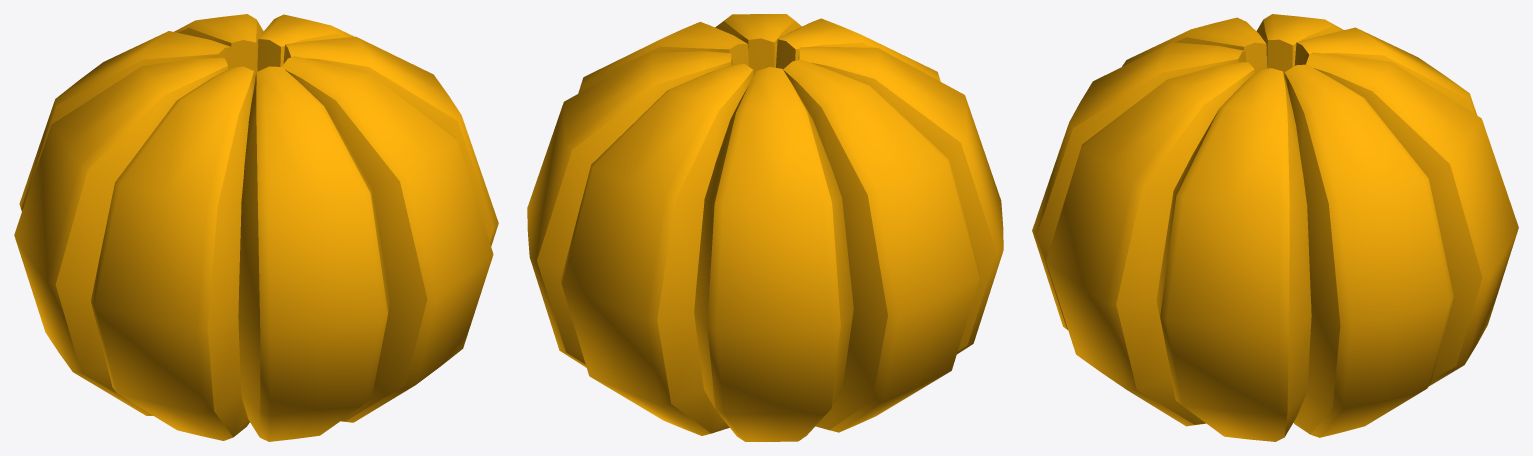
The model's file is obj_harvests_lemonium.fbx.
3 views of the same model, side by side, from view 1: azimuth 30°, elevation 25°; view 2: azimuth 150°, elevation 25°; view 3: azimuth 270°, elevation 25° (orthographic).
Parts seen in each view (by area): view 1: lod0_obj_harvests_lemonium.007; view 2: lod0_obj_harvests_lemonium.007; view 3: lod0_obj_harvests_lemonium.007.
Part boxes in pixels (<box>): lod0_obj_harvests_lemonium.007: <box>14,14,498,441</box>; lod0_obj_harvests_lemonium.007: <box>527,14,1003,441</box>; lod0_obj_harvests_lemonium.007: <box>1032,14,1518,441</box>.
Bounding box in the file's own units: 5.6 × 4.44 × 5.6.
